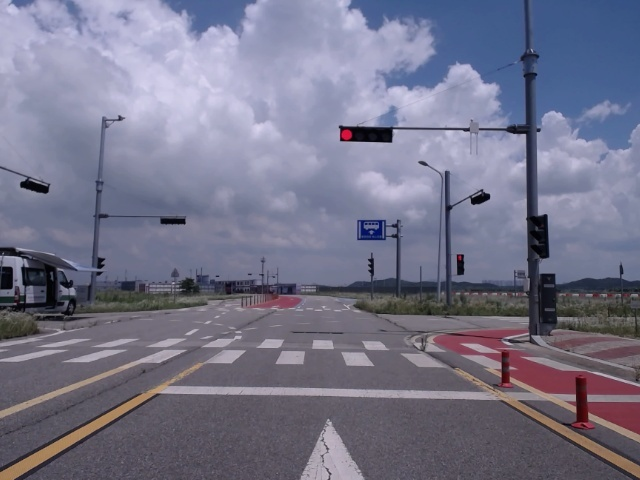red_4: (340, 128, 392, 142)
